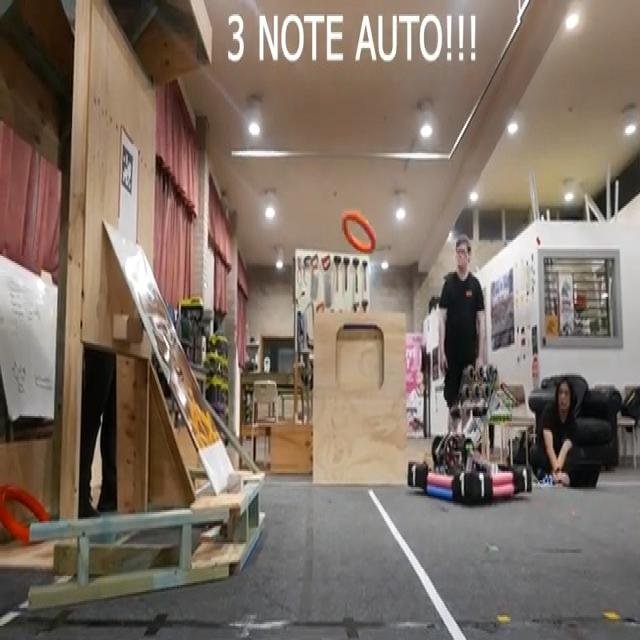note: (342, 211, 376, 253)
